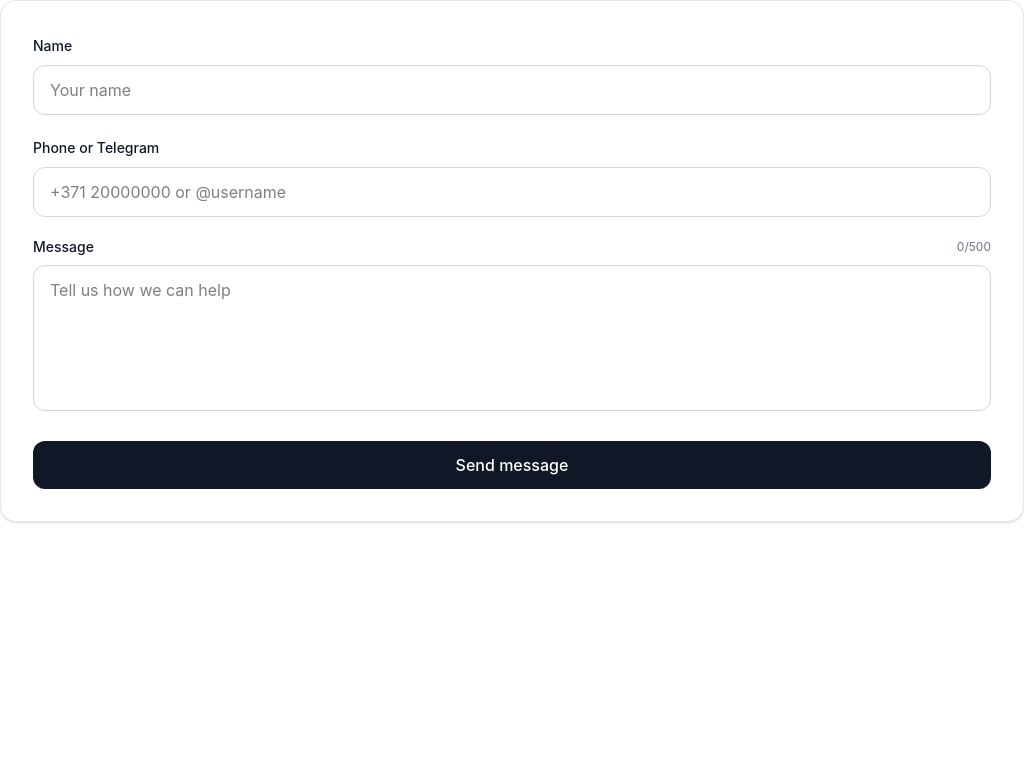
Test: ContactForm › shows validation error for invalid name
In the field labelled "Name": (512, 90) left=33, top=65, right=991, bottom=115, type "A"
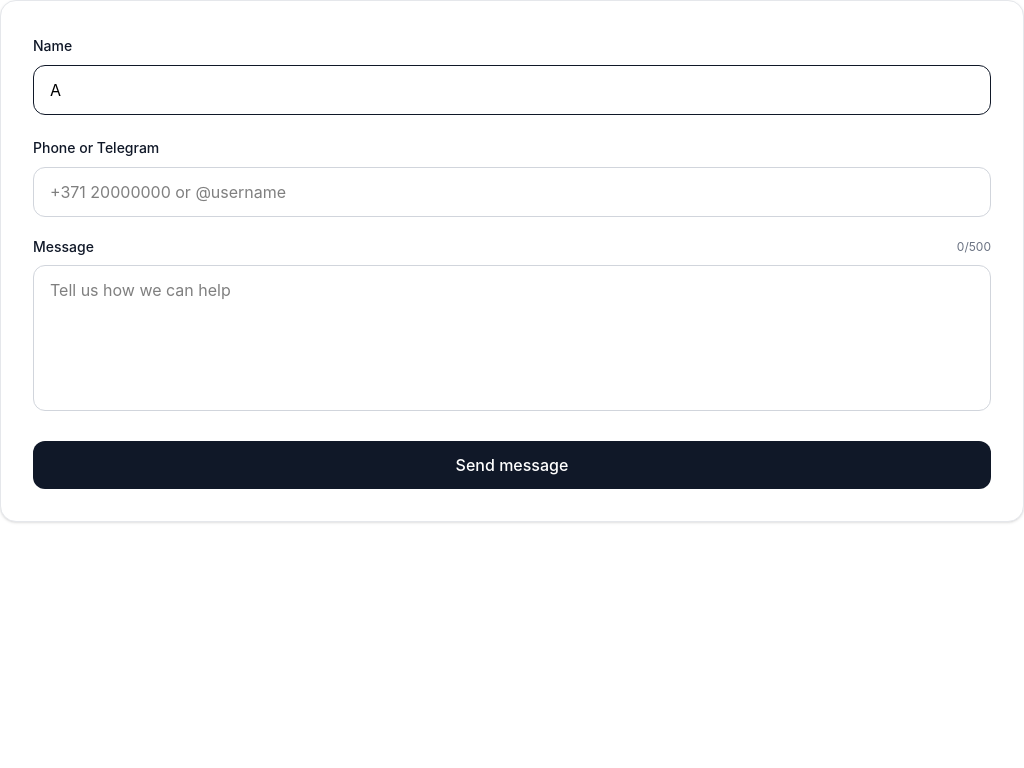
In the field labelled "Phone or Telegram": (512, 192) left=33, top=167, right=991, bottom=217, type "+371 20000000"
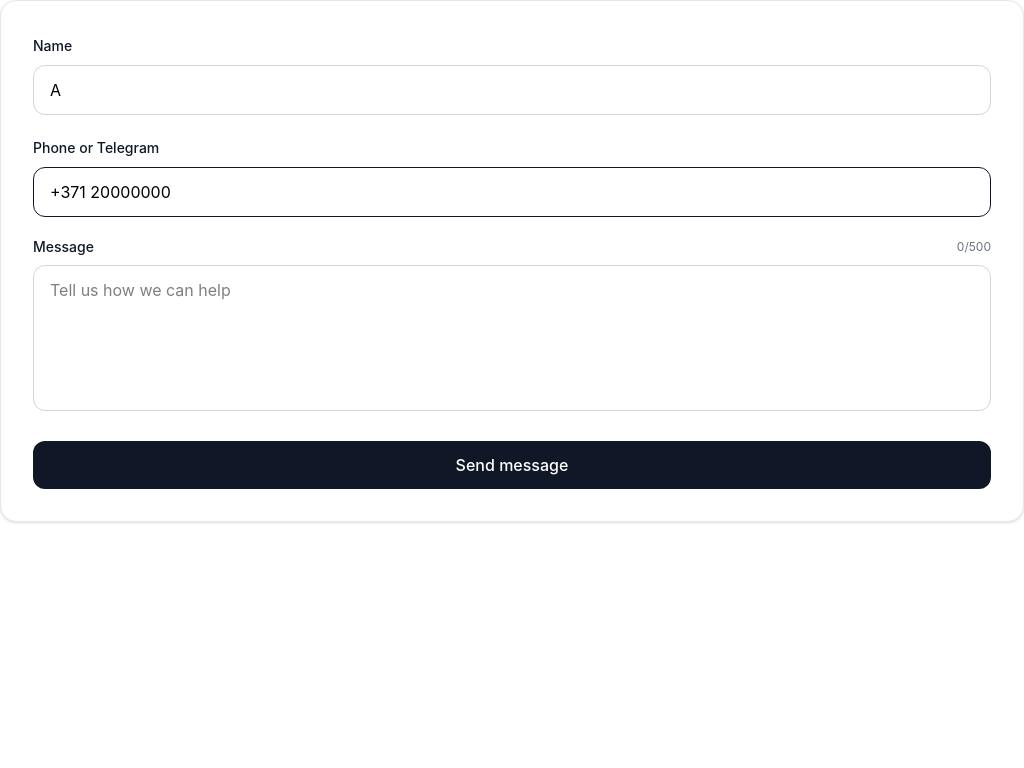
Click the button "Send message": click(512, 465) left=33, top=441, right=991, bottom=489
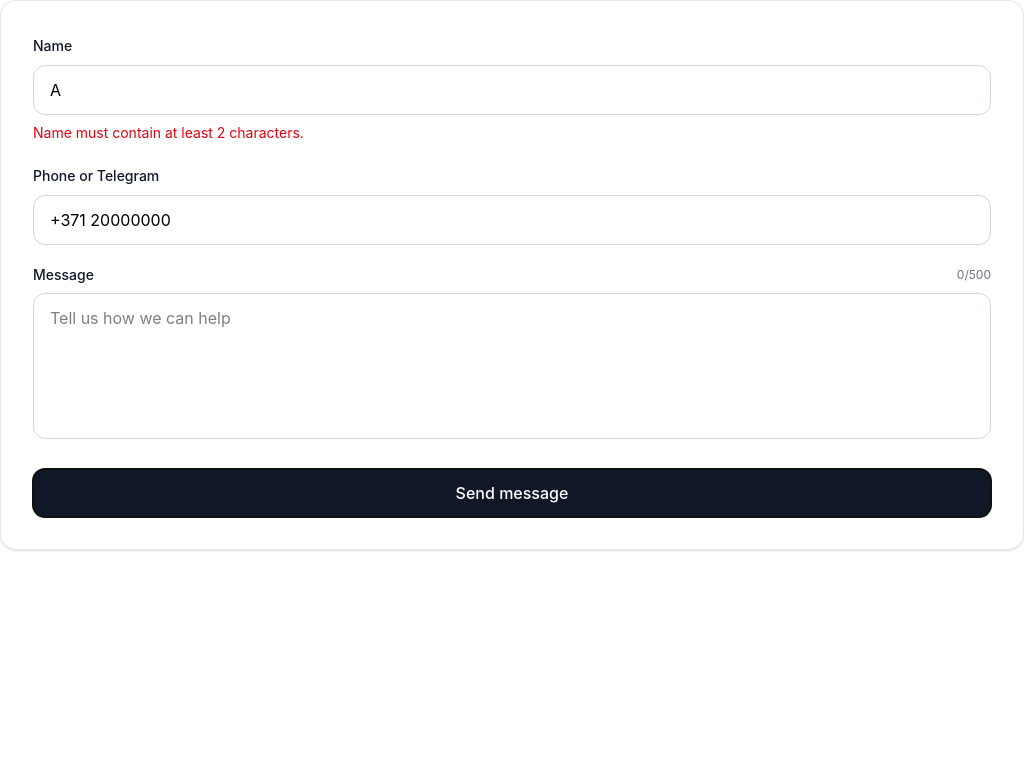
Now the text "Name must contain at least 2 characters." is shown, box left=33, top=124, right=304, bottom=141
